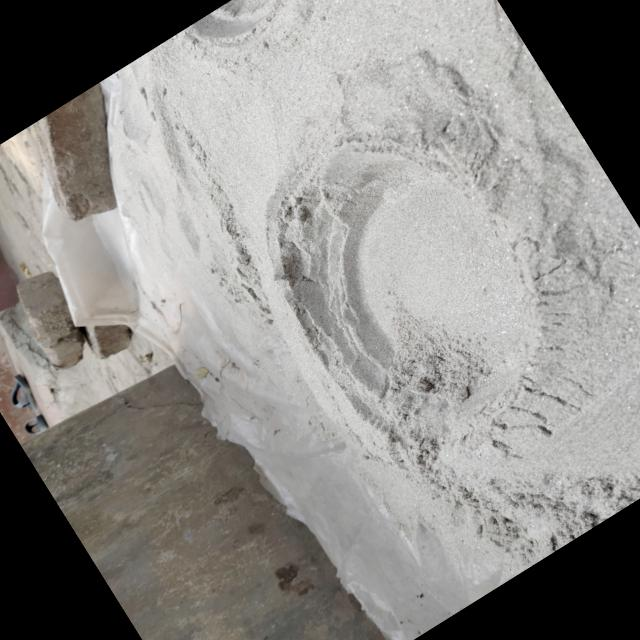C20: (281, 143, 540, 438), (192, 0, 277, 35)
